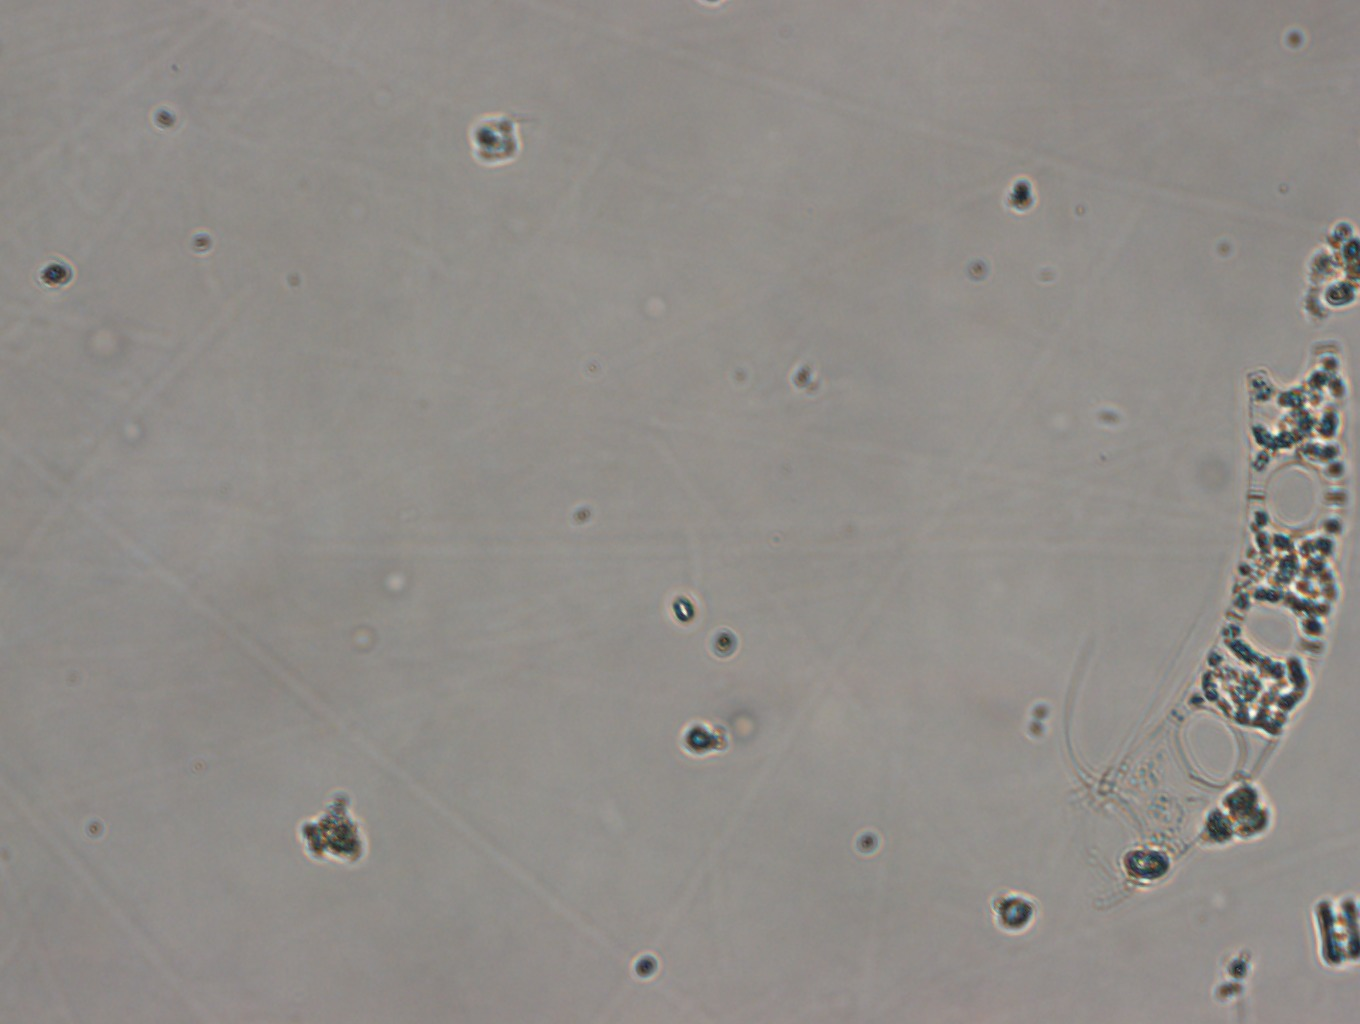eucampia: (1084, 255, 1360, 892)
